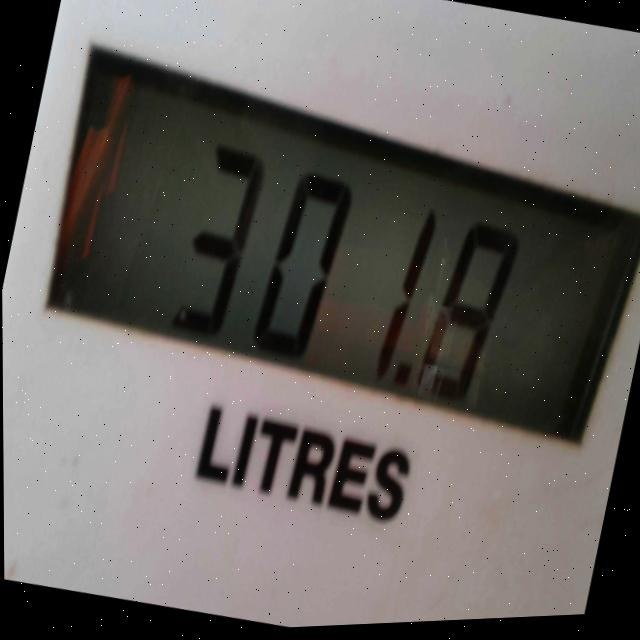.: (389, 339, 428, 415)
0: (248, 160, 359, 384)
1: (360, 201, 435, 389)
3: (171, 117, 277, 349)
8: (415, 225, 522, 424)
